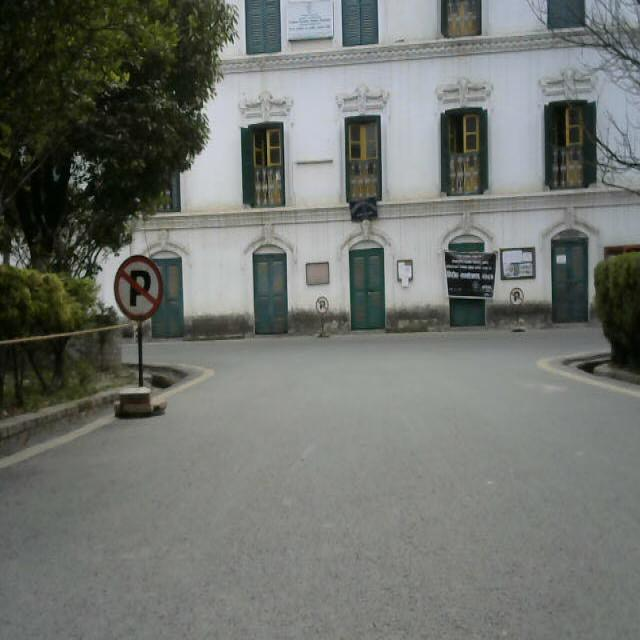Buildings: (203, 0, 591, 358)
NoParking: (109, 244, 180, 431), (508, 282, 536, 352), (314, 295, 335, 348)
Road: (9, 340, 640, 640)
trees: (2, 4, 212, 228)
